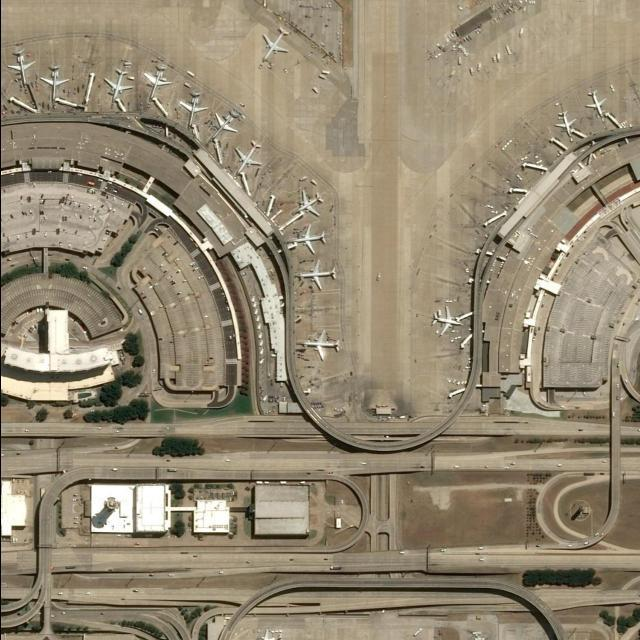Aircraft: (257, 24, 289, 64), (302, 330, 338, 364), (101, 67, 133, 105), (299, 262, 335, 294), (40, 64, 68, 102), (430, 307, 463, 337), (292, 226, 325, 256), (178, 90, 204, 127), (6, 48, 32, 85), (234, 141, 260, 175), (144, 64, 168, 100), (295, 191, 323, 219), (211, 109, 236, 139), (583, 89, 607, 119), (553, 110, 577, 138), (250, 631, 280, 640)
